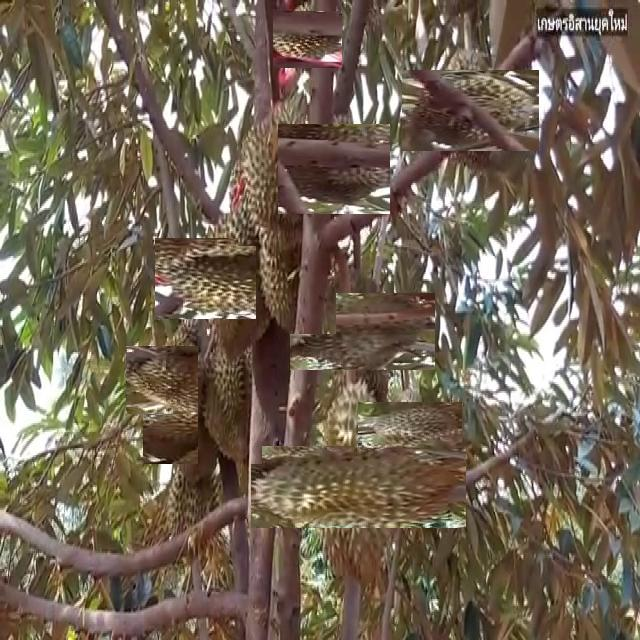durian: (284, 412, 433, 561), (176, 217, 298, 339), (236, 100, 326, 247), (307, 276, 418, 388), (416, 56, 525, 166), (283, 119, 385, 220), (256, 220, 336, 334), (198, 326, 262, 464), (162, 444, 225, 577), (135, 337, 222, 423), (151, 393, 230, 473), (372, 387, 448, 463), (276, 8, 339, 71)
